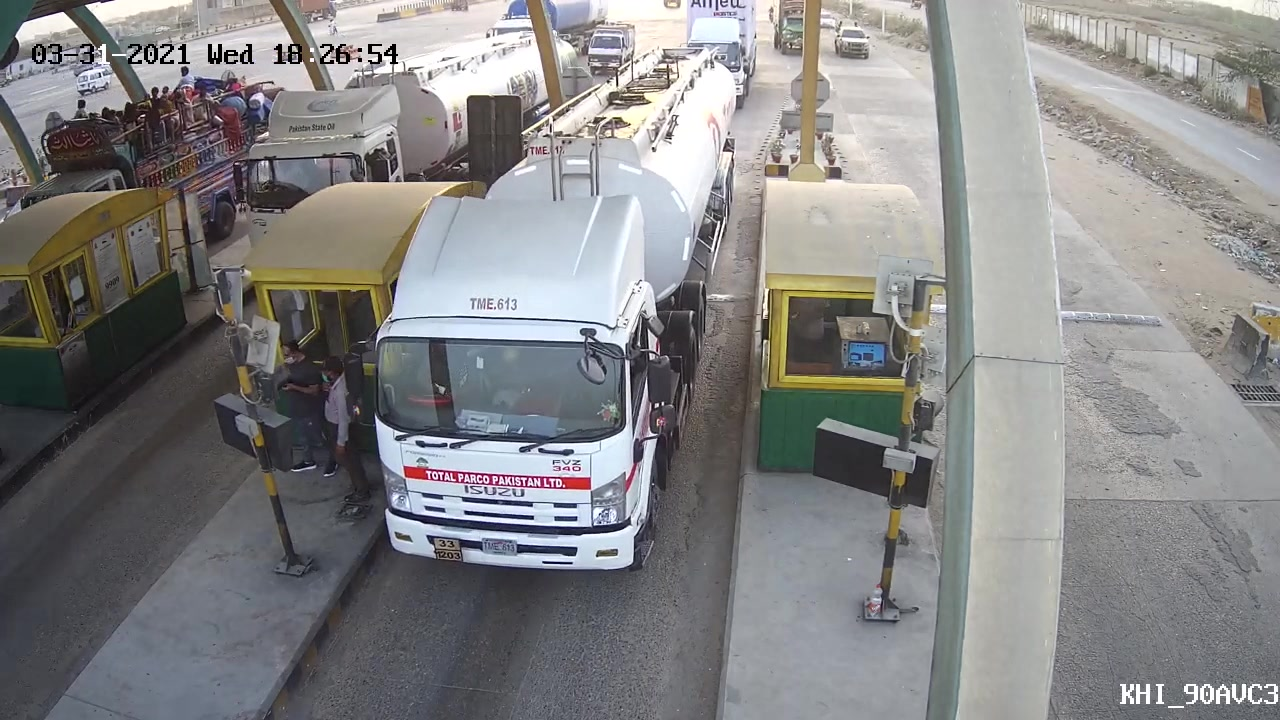F6: (345, 47, 738, 575)
